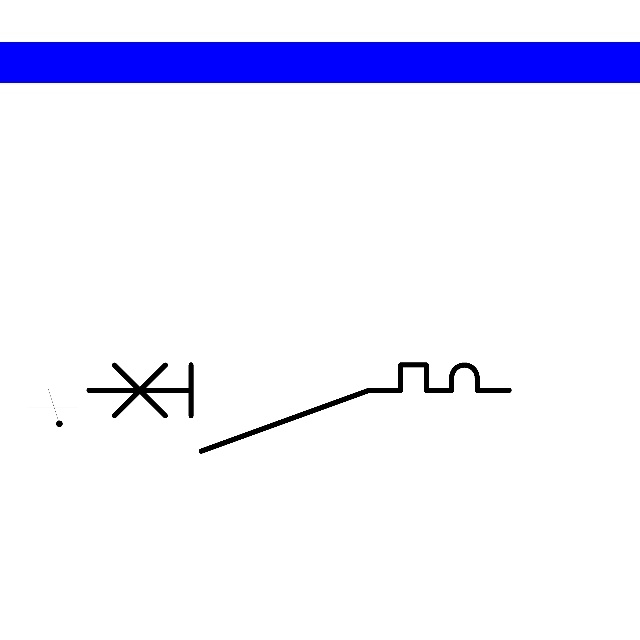interruptor_termomagnetico: (78, 354, 520, 462)
